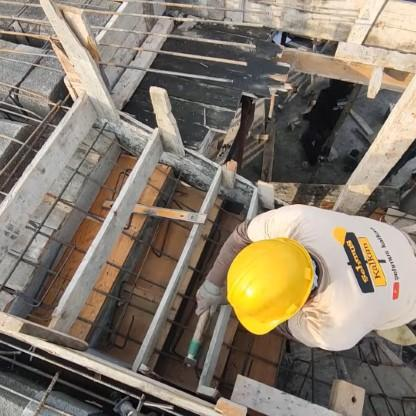helmet: (219, 234, 336, 335)
